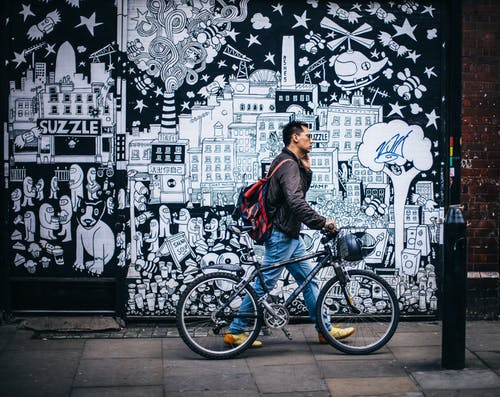bicycle: (171, 217, 402, 363)
